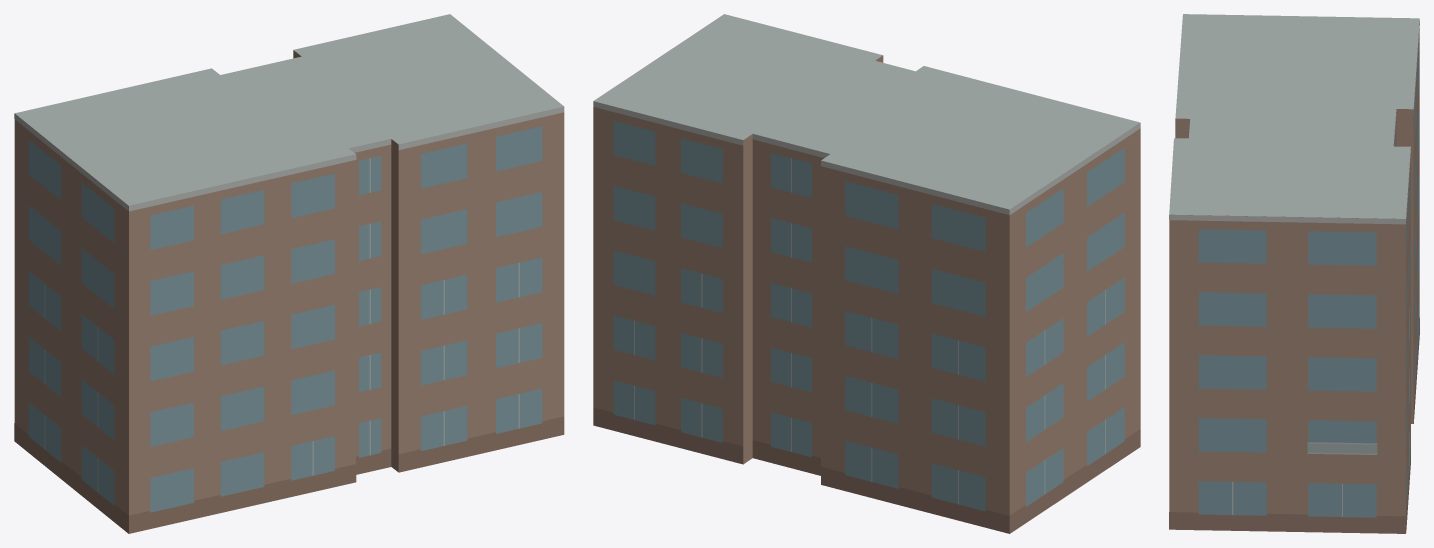
Rendered from survey-upis-32775165.glb.
3 views of the same model, side by side, from view 1: azimuth 30°, elevation 25°; view 2: azimuth 150°, elevation 25°; view 3: azimuth 270°, elevation 25° (orthographic). The views are drawn at different scales.
Parts seen in each view (by area): view 1: survey-upis-32775165.tmp; view 2: survey-upis-32775165.tmp; view 3: survey-upis-32775165.tmp.
Boxes of the visible parts, x1,y1,x2,y2 form: survey-upis-32775165.tmp: (14,14,564,533); survey-upis-32775165.tmp: (593,14,1140,533); survey-upis-32775165.tmp: (1169,14,1419,533).
Size of the model in its own units: 19.69 by 14.1 by 10.18.
